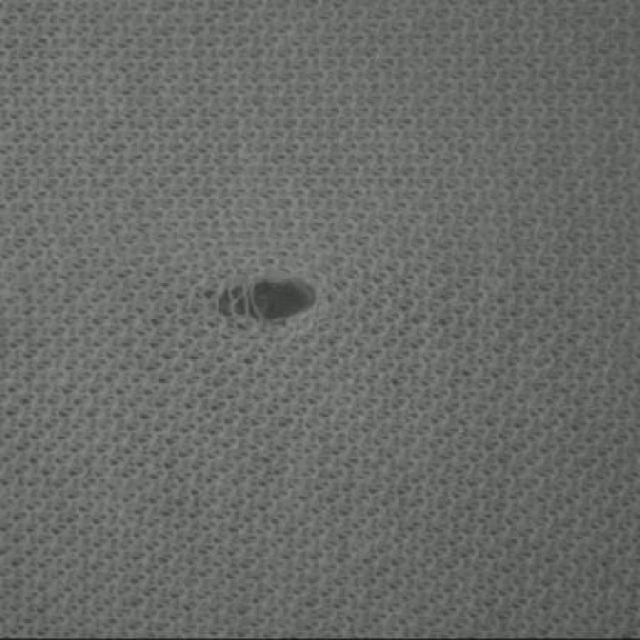Hole: (217, 281, 315, 322)
